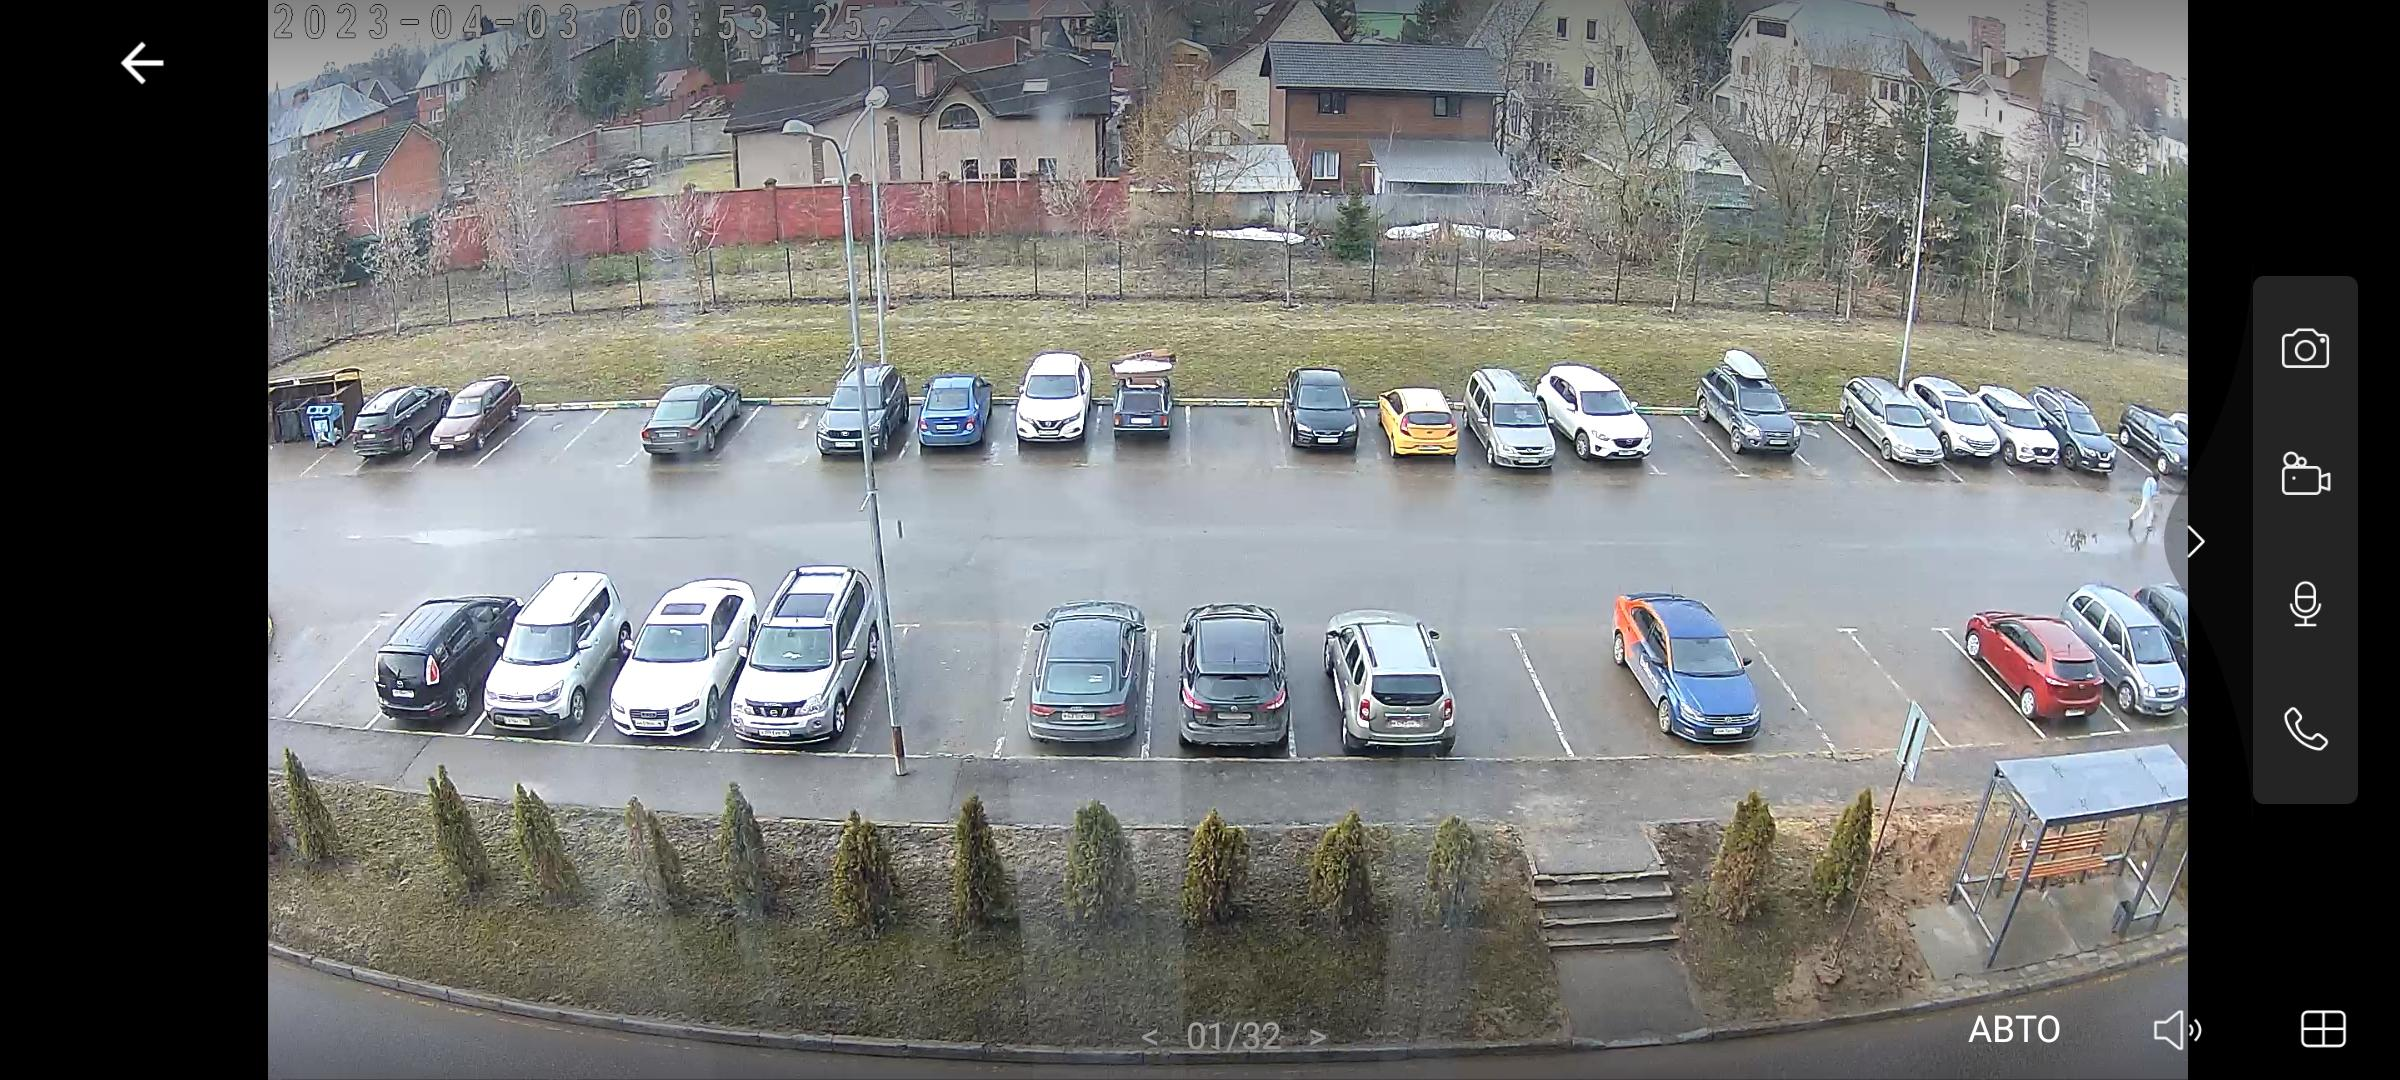empty: (1595, 590, 1795, 754), (732, 572, 885, 756), (595, 583, 750, 748), (479, 584, 628, 742), (1952, 609, 2135, 731), (349, 595, 508, 731), (1329, 615, 1474, 757), (1012, 606, 1149, 756), (1163, 604, 1292, 756), (2083, 586, 2201, 731), (1684, 353, 1817, 467), (1537, 361, 1670, 471), (1838, 375, 1976, 471), (1453, 372, 1567, 465), (635, 381, 758, 468), (1965, 379, 2079, 471), (1007, 347, 1107, 444), (1096, 350, 1192, 445), (1273, 370, 1378, 457), (2033, 387, 2132, 476), (338, 379, 455, 454), (418, 382, 530, 457), (1382, 381, 1474, 467), (894, 378, 996, 454), (808, 389, 898, 457), (2103, 402, 2184, 477)
occupied: (1449, 633, 1546, 757), (1809, 652, 1932, 736), (1895, 641, 1988, 730), (1635, 396, 1723, 476), (889, 688, 990, 748), (1788, 407, 1861, 476), (323, 653, 386, 728), (738, 410, 819, 464), (1192, 410, 1252, 451), (517, 415, 568, 462), (586, 425, 635, 473)
